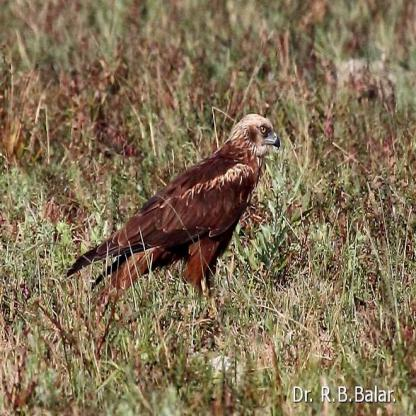Burung: (64, 113, 281, 305)
